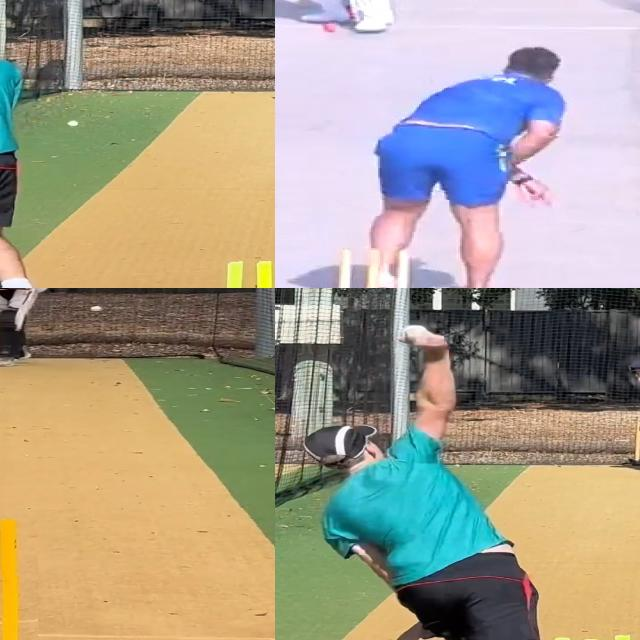Cricket ball: (321, 22, 340, 34), (90, 304, 106, 314), (66, 119, 80, 128)
